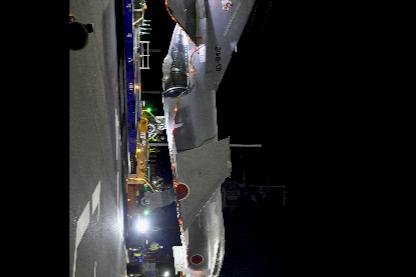F35: (138, 0, 259, 276)
